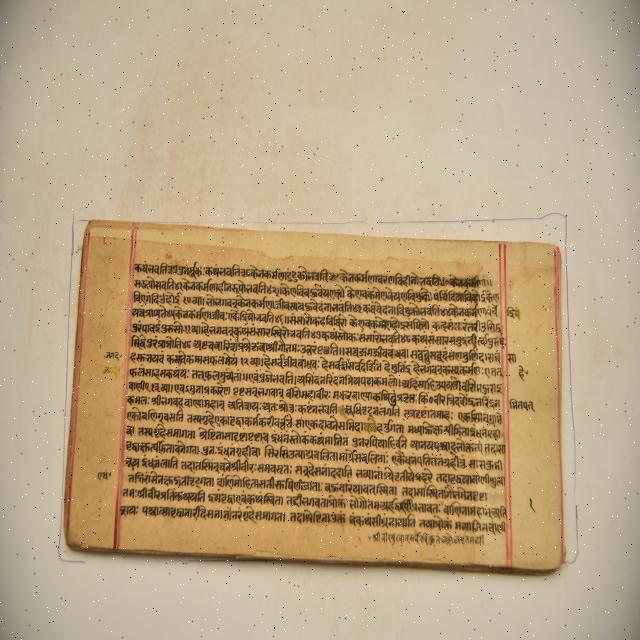text_paragraph: (62, 218, 562, 576)
